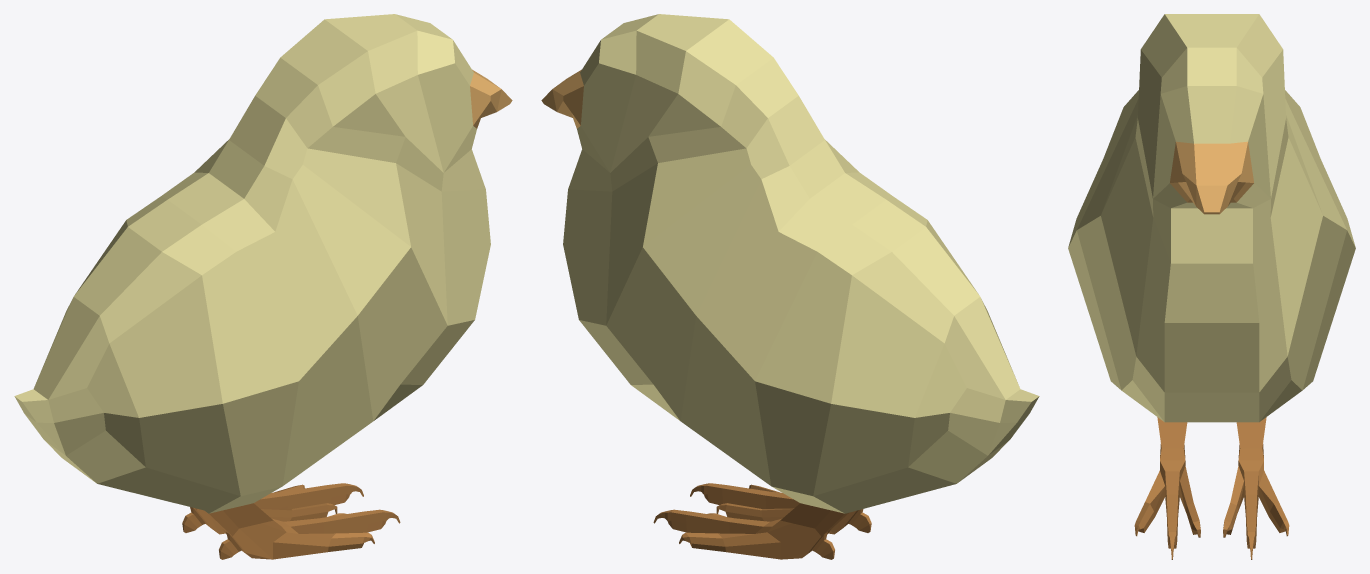
File: Chick (low poly).fbx
The picture shows the model from 3 angles, left to right: view 1: azimuth 30°, elevation 25°; view 2: azimuth 150°, elevation 25°; view 3: azimuth 270°, elevation 25°; orthographic projection. The views are drawn at different scales.
Visible parts, largest first — view 1: Cube; view 2: Cube; view 3: Cube.
Part boxes in pixels (x1=…): Cube: x1=14, y1=14, x2=512, y2=559; Cube: x1=541, y1=14, x2=1039, y2=559; Cube: x1=1068, y1=14, x2=1355, y2=559.
Bounding box in the file's own units: 404 × 381 × 188.
